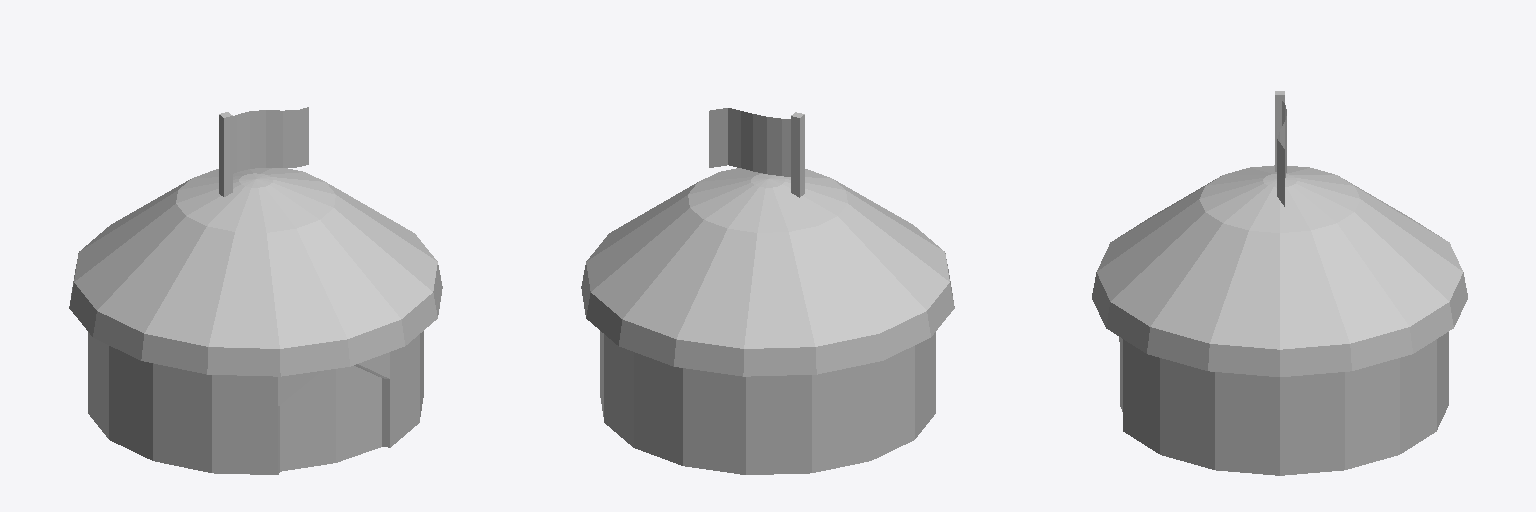
The model's file is hut.obj.
The picture shows the model from 3 angles: view 1: azimuth 30°, elevation 25°; view 2: azimuth 150°, elevation 25°; view 3: azimuth 270°, elevation 25°; orthographic projection.
Visible parts, largest first — view 1: Cube.001; view 2: Cube.001; view 3: Cube.001.
Boxes of the visible parts, x1,y1,x2,y2 form: Cube.001: [69, 107, 442, 474]; Cube.001: [581, 108, 954, 474]; Cube.001: [1092, 91, 1467, 475].
Size of the model in its own units: 2.22 by 1.93 by 2.22.